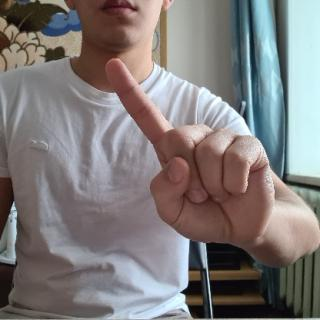BAA: (103, 57, 282, 256)
